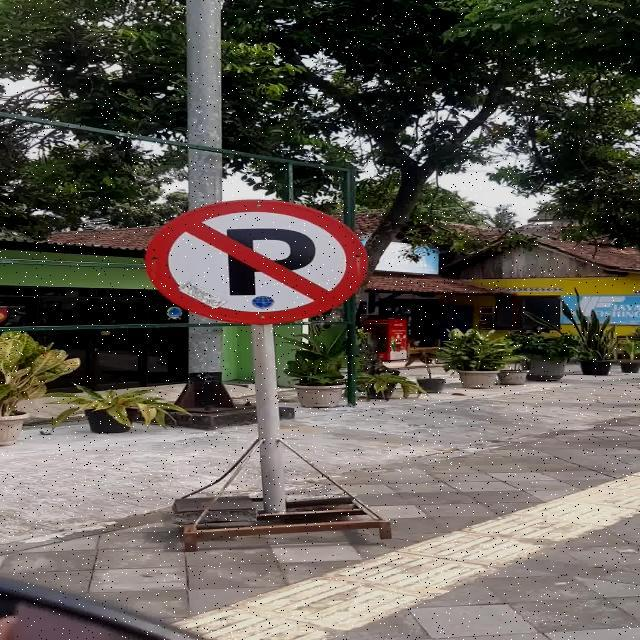Dilarang Parkir: (144, 200, 369, 324)
